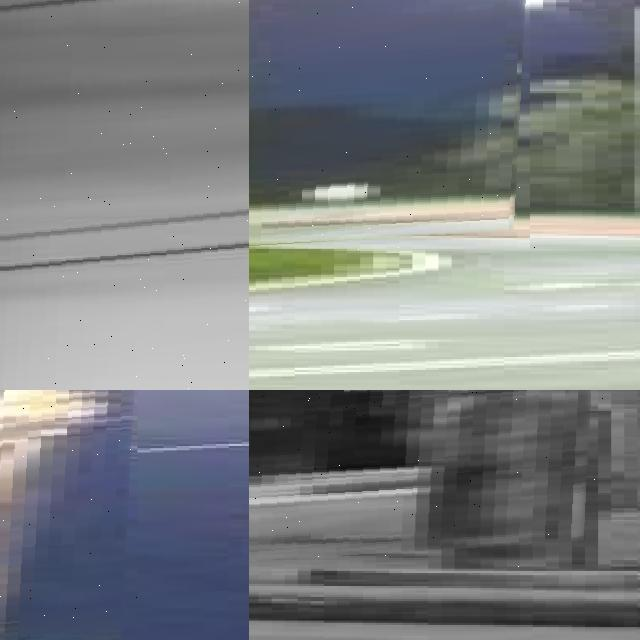street light: (0, 0, 249, 390), (249, 0, 535, 249), (249, 390, 611, 568), (0, 390, 137, 640), (490, 0, 640, 209)
